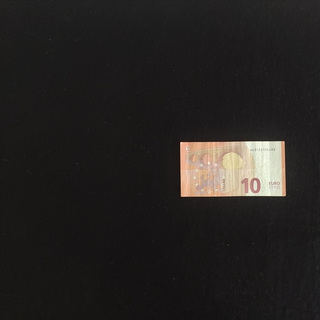10EUROBack: (180, 140, 286, 197)
